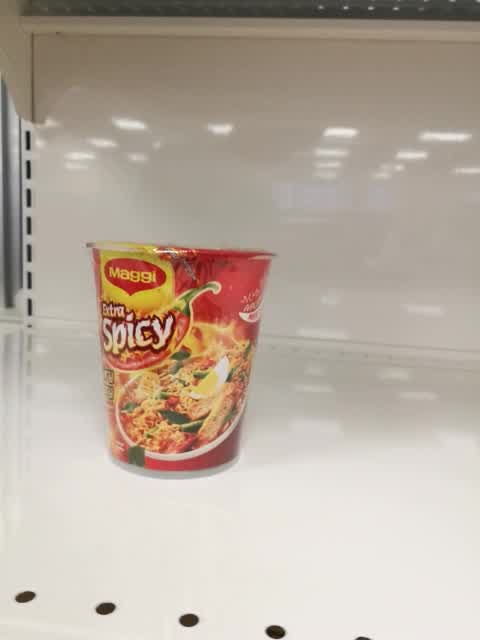maggi: (84, 239, 278, 482)
